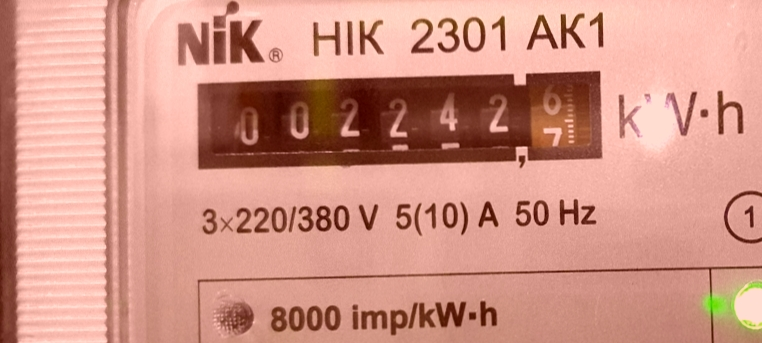0: (284, 98, 309, 140), (336, 96, 360, 138), (236, 103, 258, 147)
2: (484, 91, 508, 135), (385, 96, 409, 139)
4: (434, 90, 458, 133)
6: (538, 83, 562, 116)
7: (539, 125, 562, 148)
screen: (185, 60, 617, 184)
